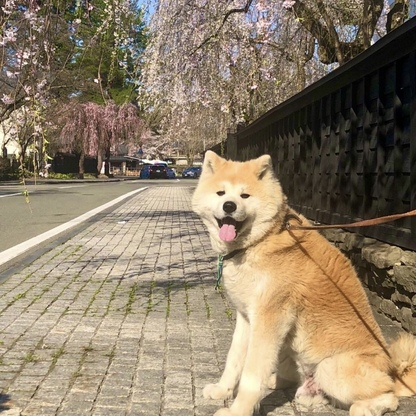akita: (181, 142, 416, 416)
